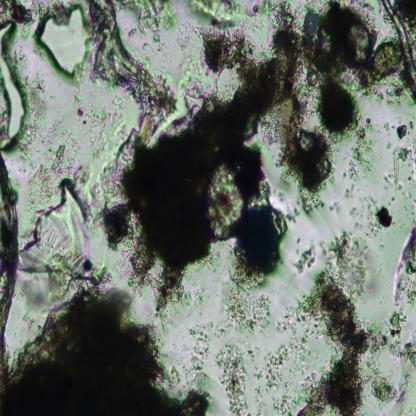Air bubble: (29, 0, 93, 79), (0, 0, 32, 146)
Background material: (106, 27, 302, 308), (0, 289, 207, 414), (14, 162, 112, 303), (300, 0, 396, 136), (88, 0, 172, 139), (302, 271, 368, 415), (267, 100, 329, 210), (22, 99, 76, 216), (249, 340, 305, 414), (0, 154, 21, 341), (224, 248, 270, 330), (184, 0, 296, 32), (384, 1, 416, 107), (365, 309, 416, 369), (121, 0, 176, 54), (328, 224, 368, 294), (214, 341, 250, 416), (183, 321, 216, 391), (351, 115, 377, 184), (364, 370, 411, 407), (394, 232, 416, 309), (362, 194, 396, 240), (330, 188, 359, 219), (295, 243, 320, 273), (370, 268, 384, 304), (76, 106, 88, 125), (397, 125, 410, 141), (384, 140, 393, 152), (384, 121, 390, 135)
Diatom: (393, 148, 400, 185)
Fragment: (233, 202, 282, 273)
